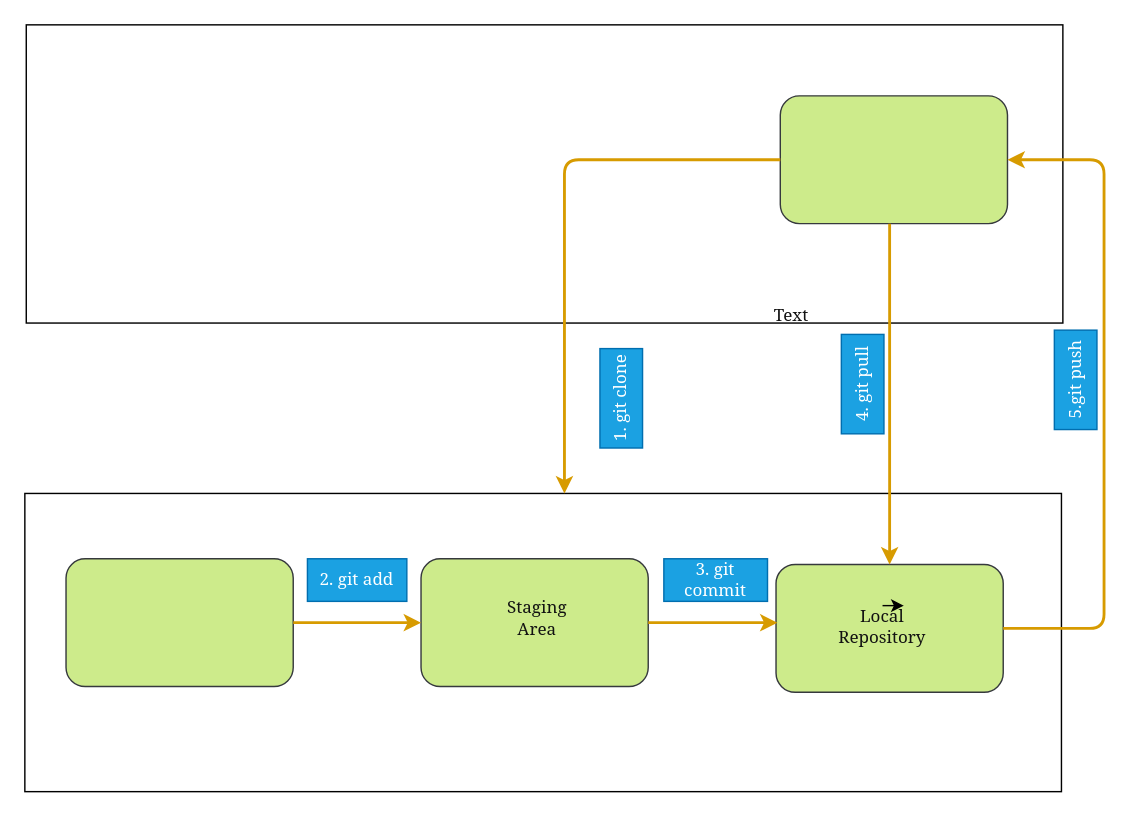
This 1142x817 diagram has some shape labels left out. The shapes that lost their labels are listed below. From the top down, each one's centre as x and y in pixels, then its label:
At pixel 893 159: "Remote Repository".
At pixel 179 622: "Working Directory".
